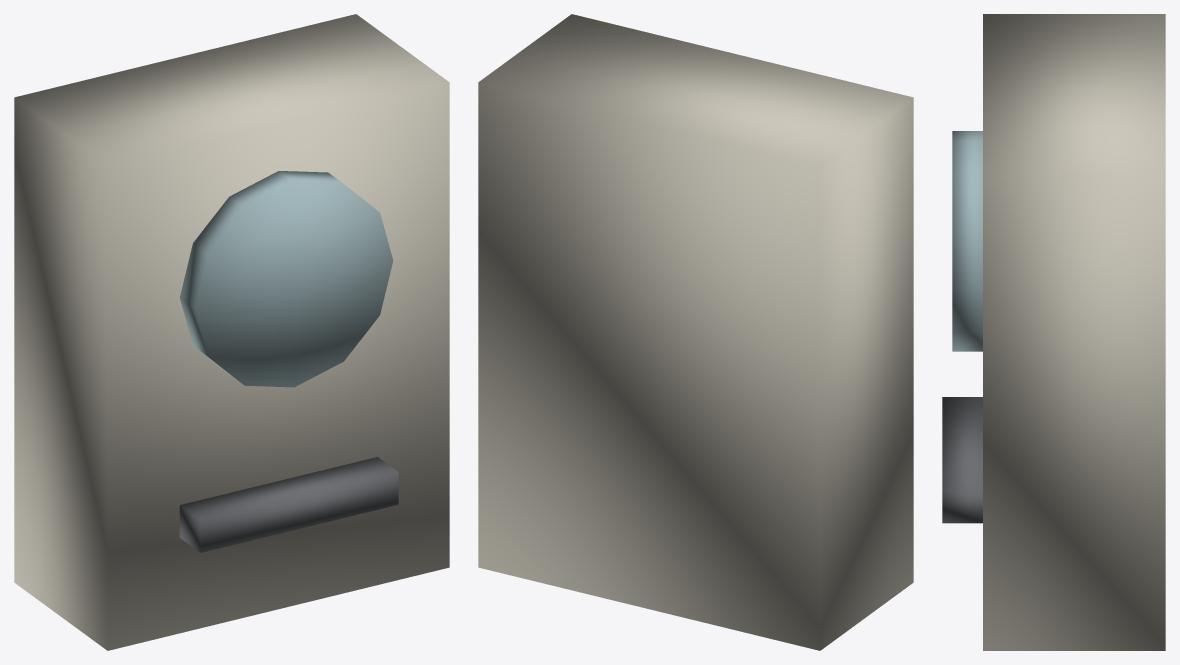
The model's file is employee_punch_clock__reinforced.glb.
3 views of the same model, side by side, from view 1: azimuth 30°, elevation 25°; view 2: azimuth 150°, elevation 25°; view 3: azimuth 270°, elevation 25° (orthographic). The views are drawn at different scales.
Visible parts, largest first — view 1: world; view 2: world; view 3: world.
Part boxes in pixels (x1,y1,x2,y2): world: [14, 14, 449, 650]; world: [478, 14, 913, 650]; world: [942, 14, 1165, 650].
Bounding box in the file's own units: 0.3914 × 0.5304 × 0.2266.
